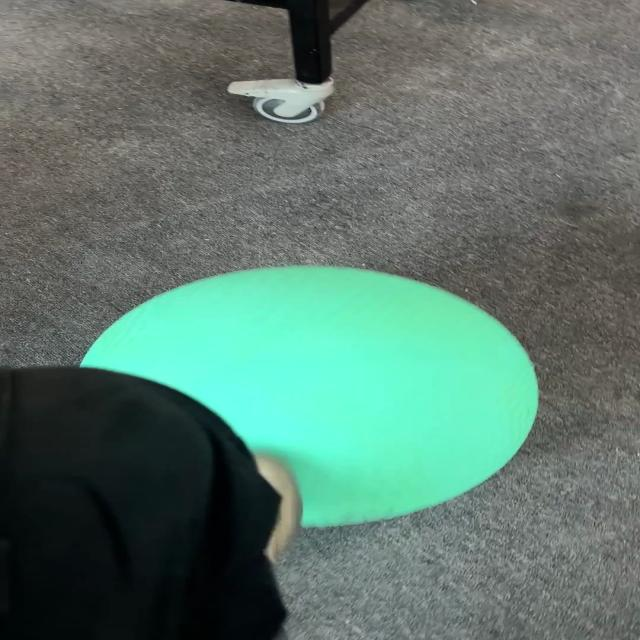Algae: (77, 264, 540, 529)
